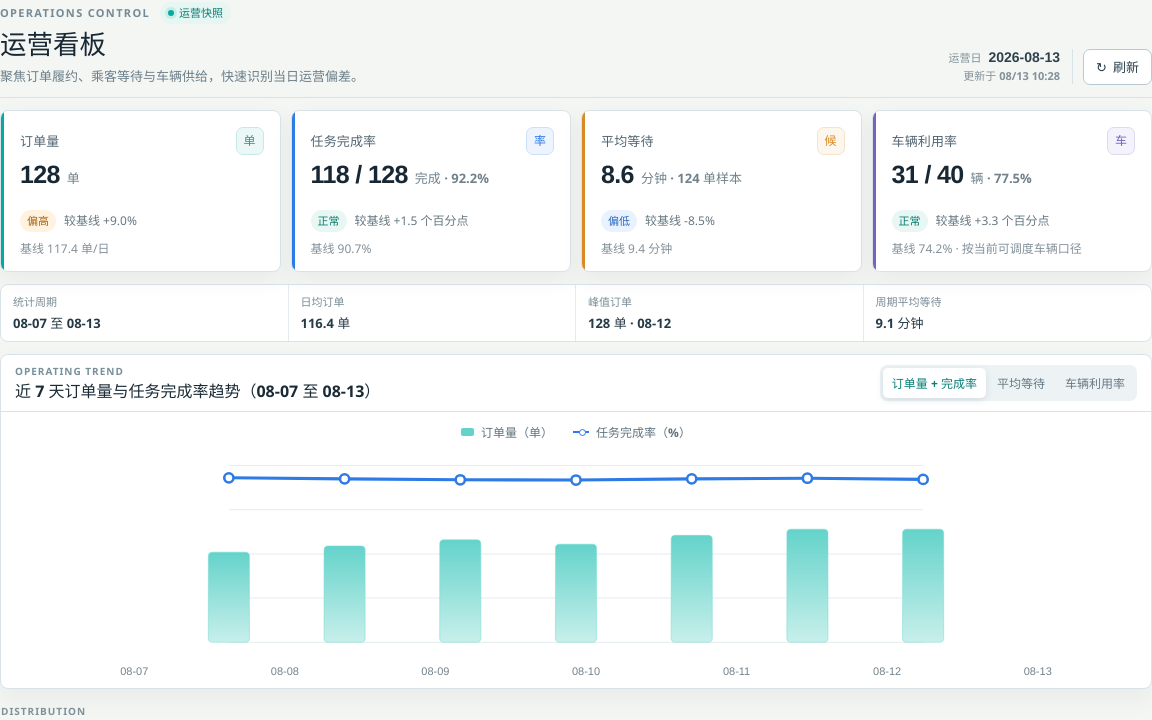
Test: DashboardPage › refreshes by the current Shanghai operating day and reports success with a global toast
Click the button with aria-label "刷新数据". click: (1118, 67)
box: [1083,49,1151,85]
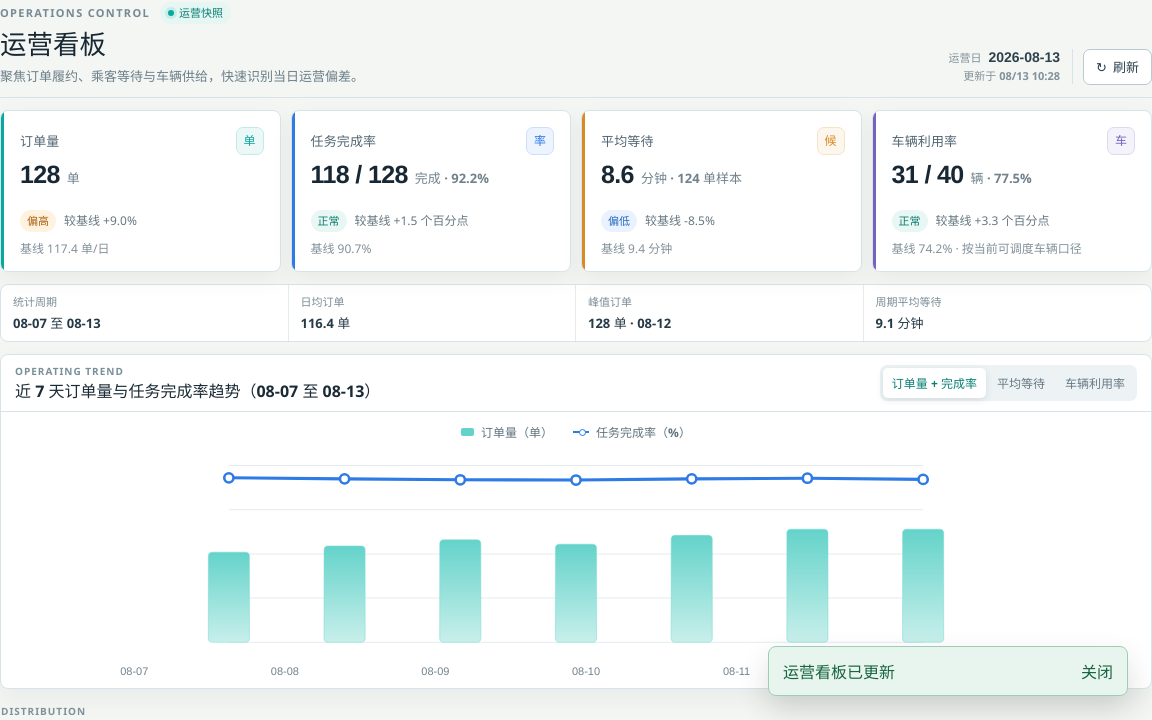
Check: the text "运营看板已更新" is shown, box [783,659,895,683]
